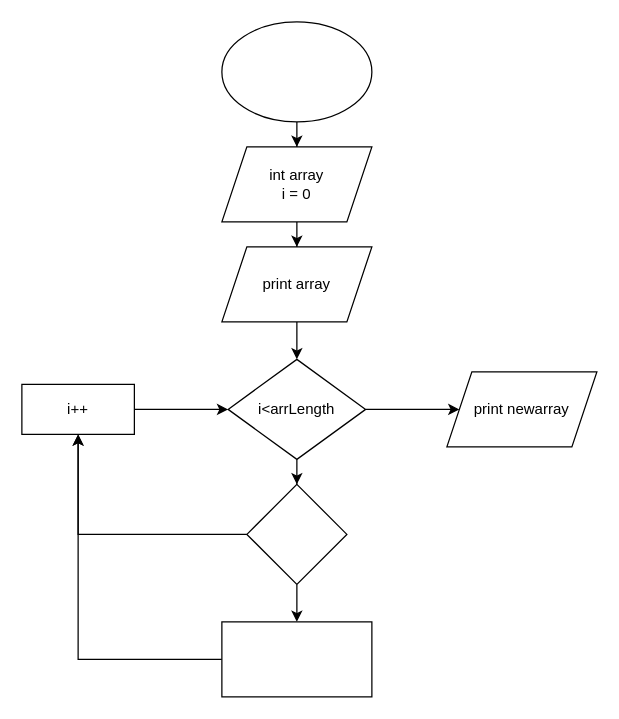
This 619x719 diagram has some shape labels left out. Each missing label, with the box of its shape:
arr[i] = newarray: (221, 621, 372, 697)
i<=3: (246, 483, 347, 584)
Start: (221, 21, 372, 122)
